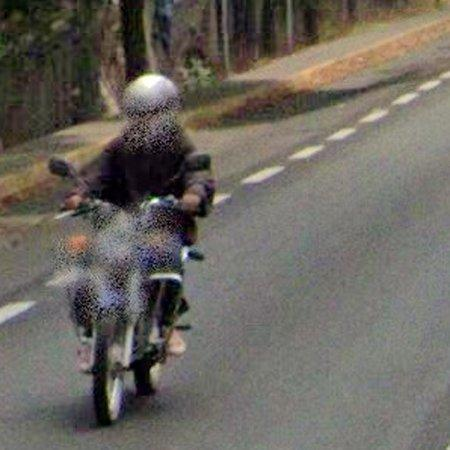motorcycles: (57, 202, 195, 427)
